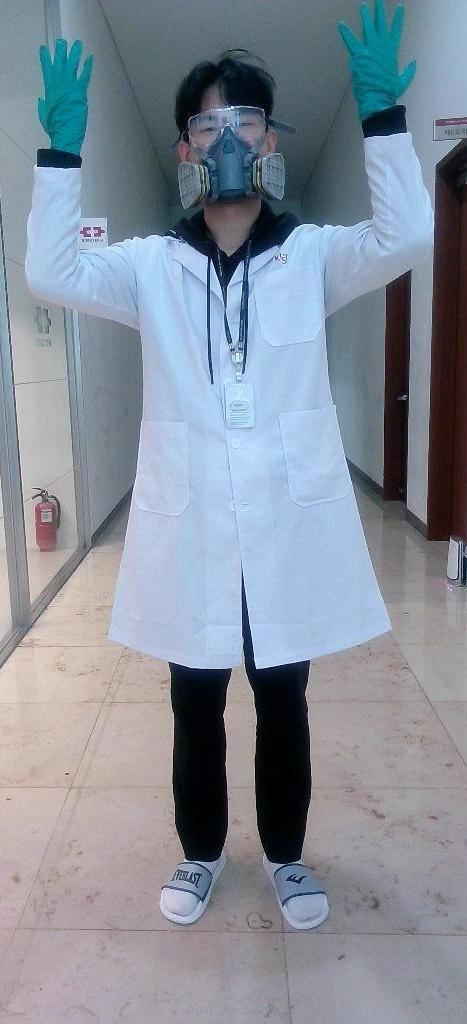lab_coat: (76, 210, 388, 662)
